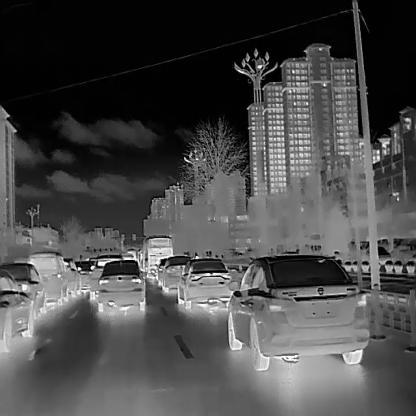car: (224, 251, 369, 371), (0, 266, 39, 352), (176, 257, 234, 309), (94, 258, 146, 312), (1, 261, 47, 317), (27, 250, 68, 304), (88, 253, 125, 300), (142, 234, 174, 277), (161, 255, 190, 294), (61, 254, 81, 296), (72, 257, 94, 291), (154, 257, 168, 284)
